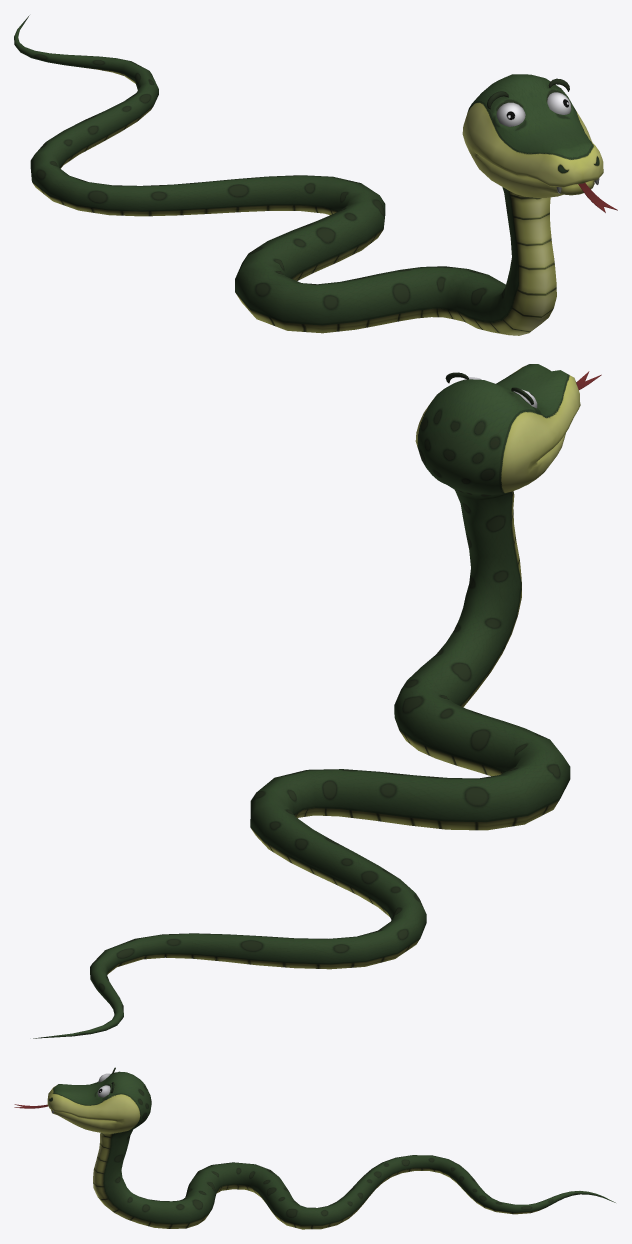
File: Snake.FBX
3 renders of one model, top to bottom at view 1: azimuth 30°, elevation 25°; view 2: azimuth 150°, elevation 25°; view 3: azimuth 270°, elevation 25°, orthographic. The views are drawn at different scales.
Visible parts, largest first — view 1: Snake; view 2: Snake; view 3: Snake.
Part boxes in pixels (<box>): Snake: <box>14,15,617,335</box>; Snake: <box>33,364,601,1038</box>; Snake: <box>14,1067,615,1229</box>.
Size of the model in its own units: 6.22 by 6.44 by 22.73.
1 material, 1 textured.
